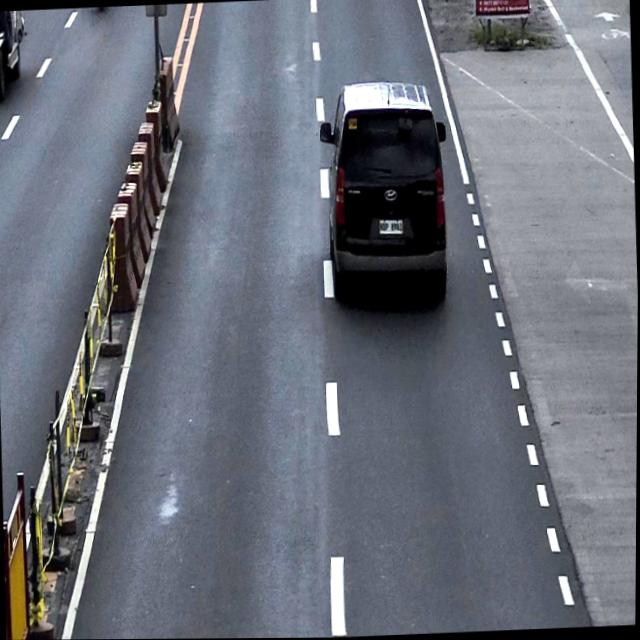Car: (315, 77, 453, 307), (0, 10, 28, 99)
License-Plate: (376, 216, 404, 237)
